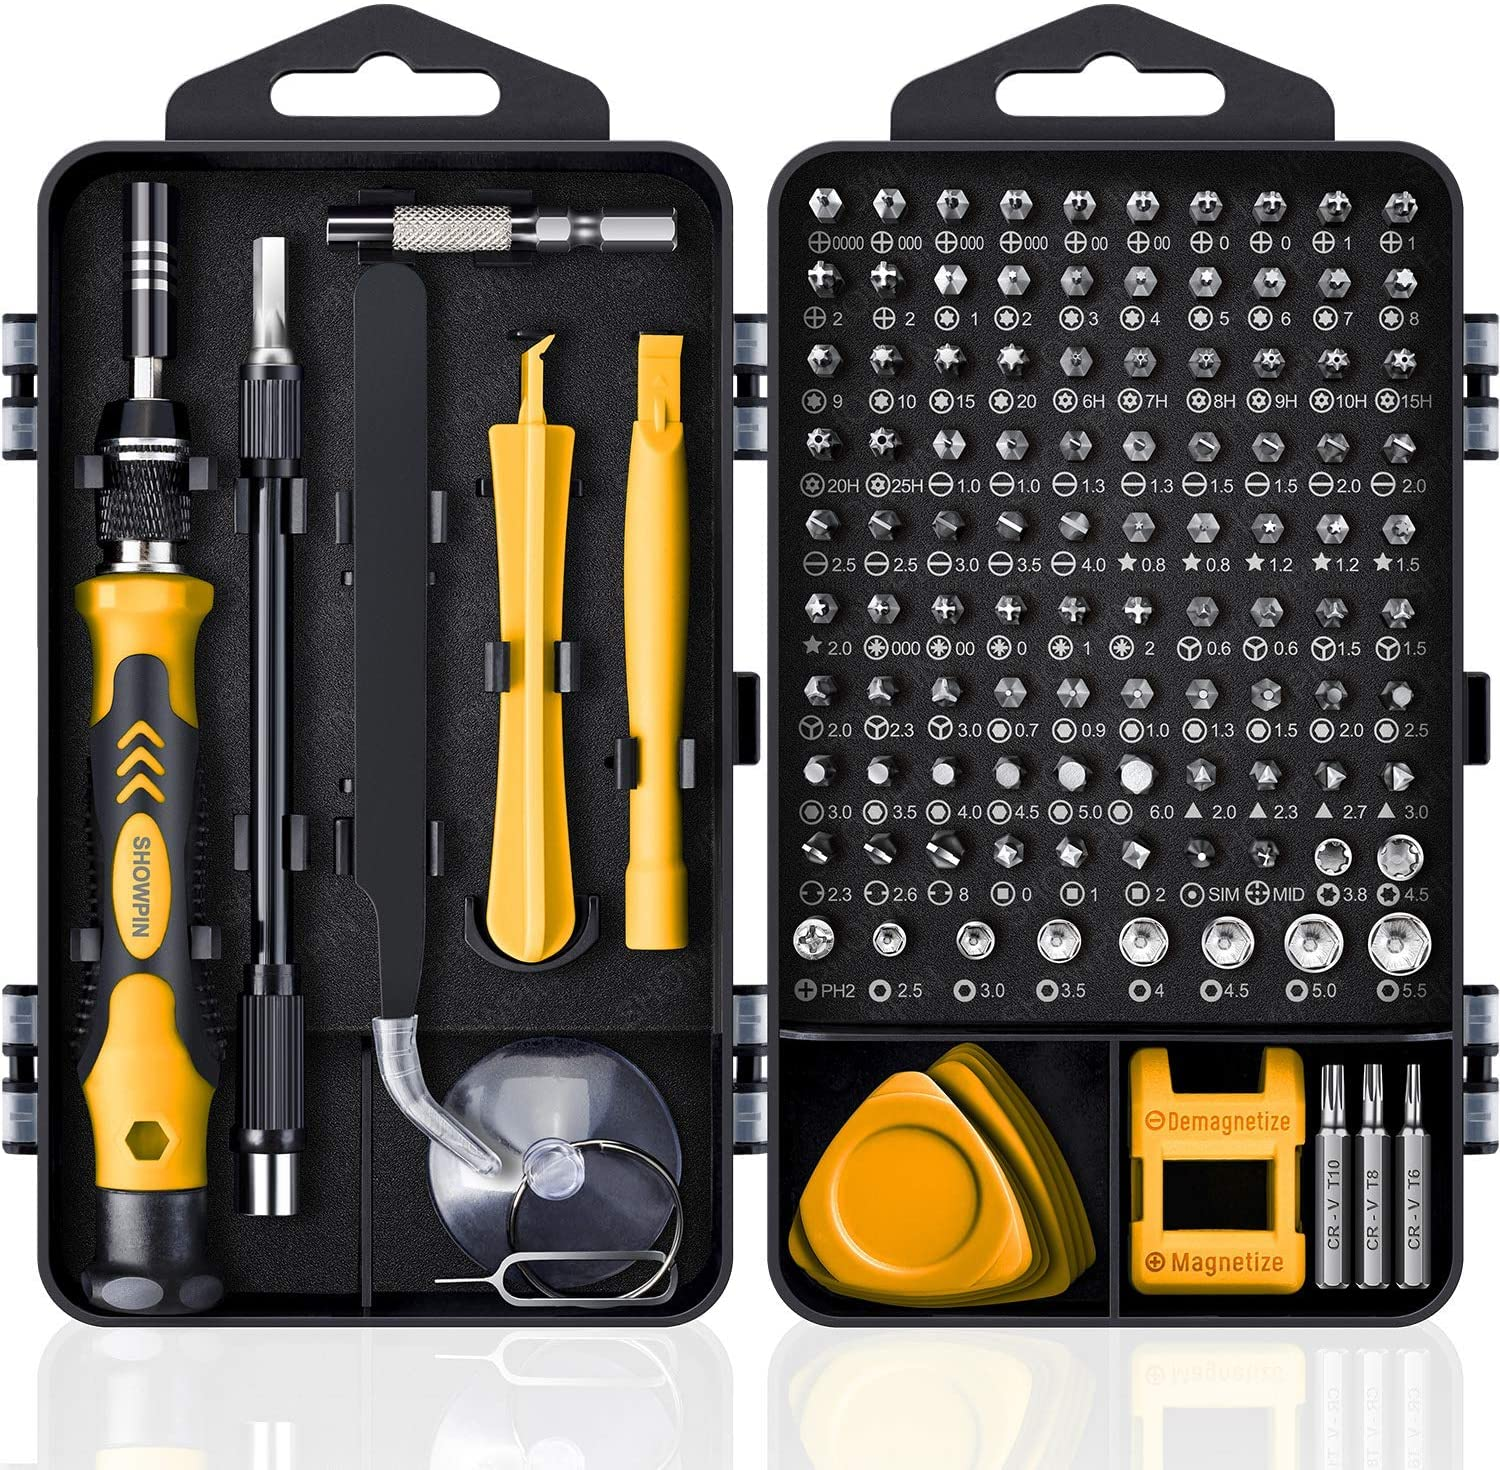screwdriver: (54, 176, 232, 1296), (224, 214, 322, 1224)
